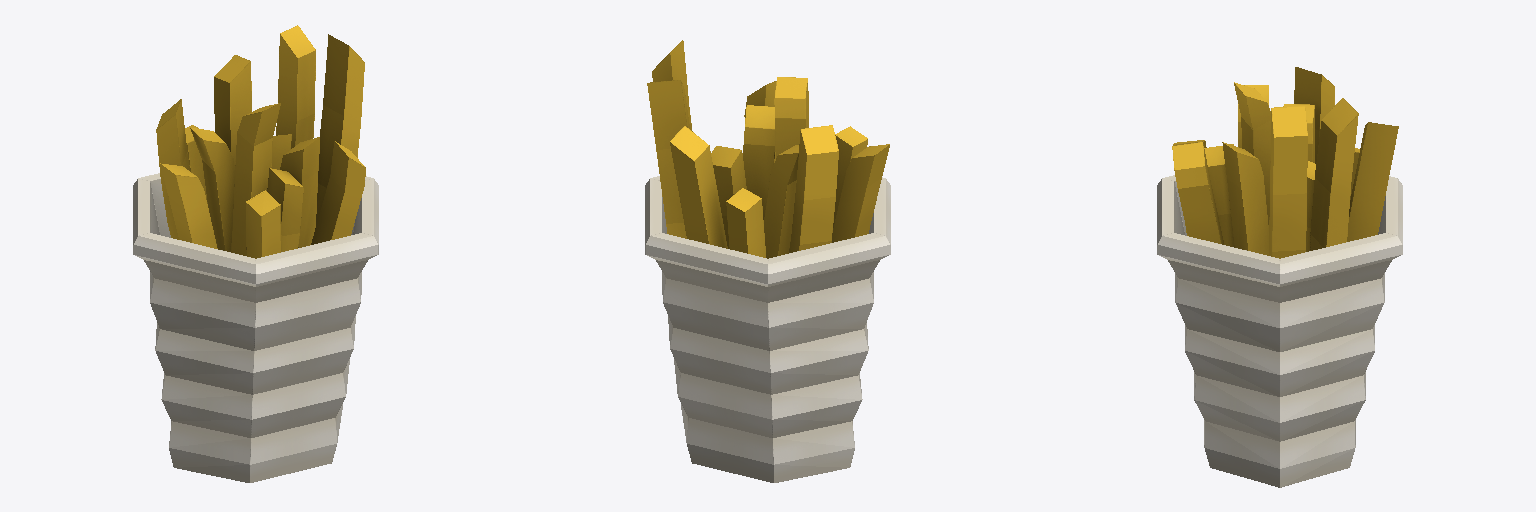
The picture shows the model from 3 angles: view 1: azimuth 30°, elevation 25°; view 2: azimuth 150°, elevation 25°; view 3: azimuth 270°, elevation 25°; orthographic projection.
Visible parts, largest first — view 1: FrenchFries_mesh; view 2: FrenchFries_mesh; view 3: FrenchFries_mesh.
Boxes of the visible parts, x1,y1,x2,y2 form: FrenchFries_mesh: [133, 25, 378, 482]; FrenchFries_mesh: [645, 40, 890, 482]; FrenchFries_mesh: [1157, 67, 1402, 487].
Size of the model in its own units: 6.28 by 9.38 by 5.44.
1 materials, 1 textured.